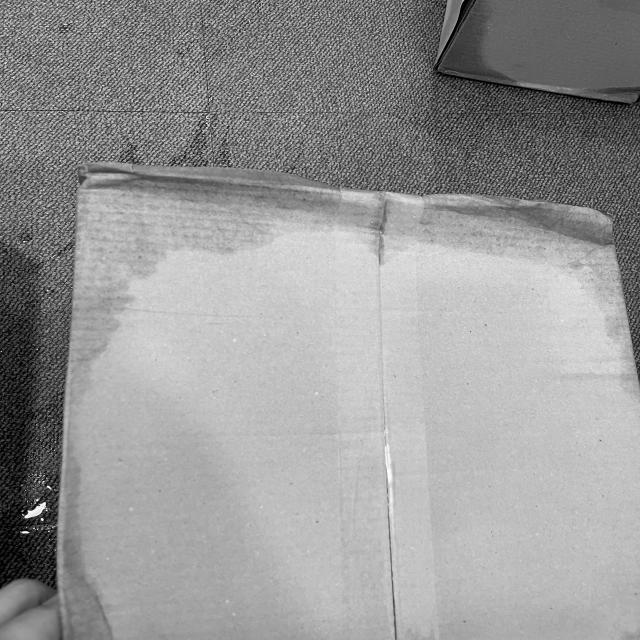wet: (78, 169, 352, 385), (412, 198, 633, 384), (55, 433, 124, 639)
